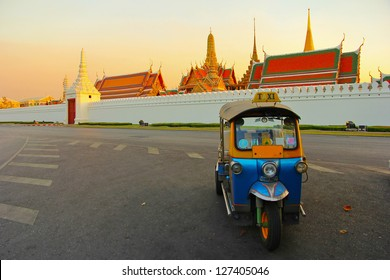threewheel: (214, 90, 307, 250)
